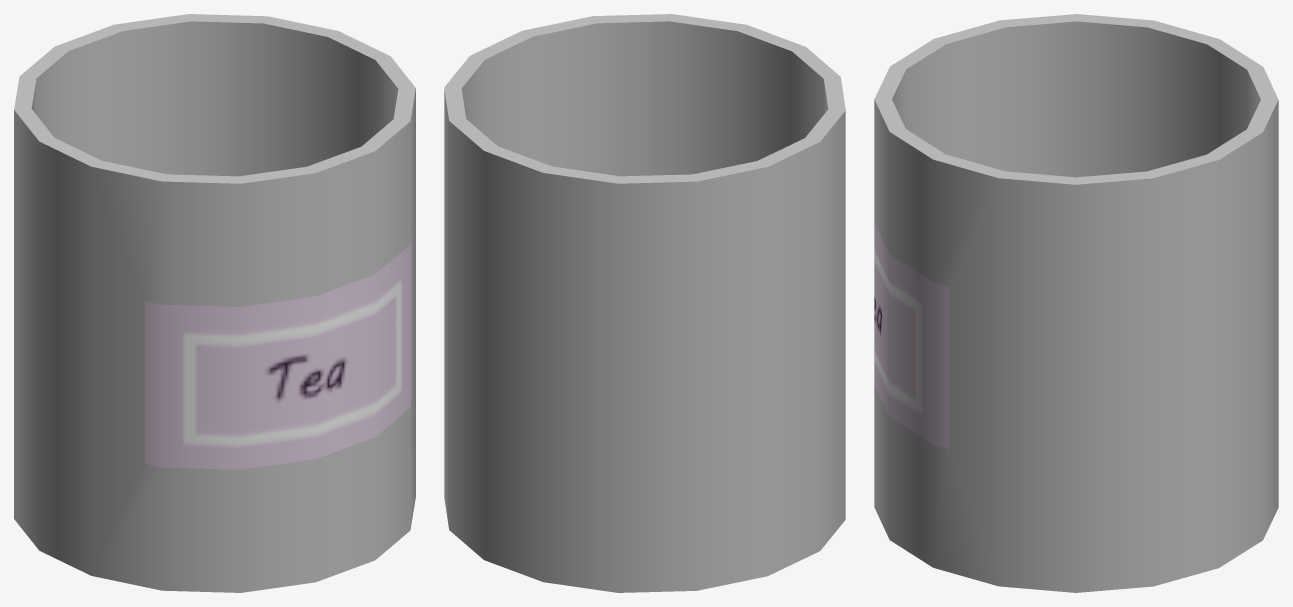
Rendered from SM_Food_43.fbx.
3 views of the same model, side by side, from view 1: azimuth 30°, elevation 25°; view 2: azimuth 150°, elevation 25°; view 3: azimuth 270°, elevation 25° (orthographic).
Parts seen in each view (by area): view 1: SM_Food_43; view 2: SM_Food_43; view 3: SM_Food_43.
Part boxes in pixels (bbox=[...]): SM_Food_43: bbox=[14, 14, 415, 592]; SM_Food_43: bbox=[444, 14, 845, 592]; SM_Food_43: bbox=[874, 14, 1278, 592].
Bounding box in the file's own units: 0.1669 × 0.1859 × 0.1669.
